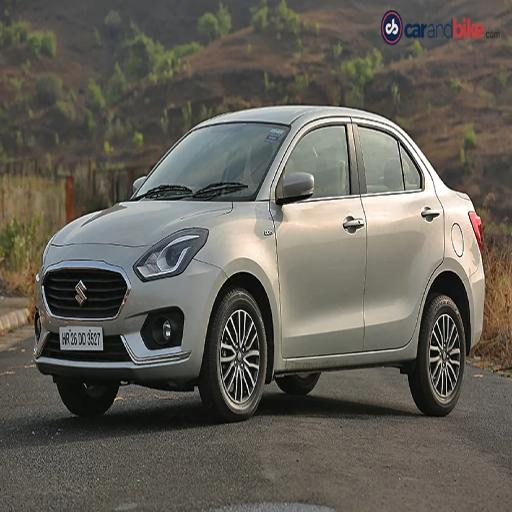License: (58, 324, 104, 354)
